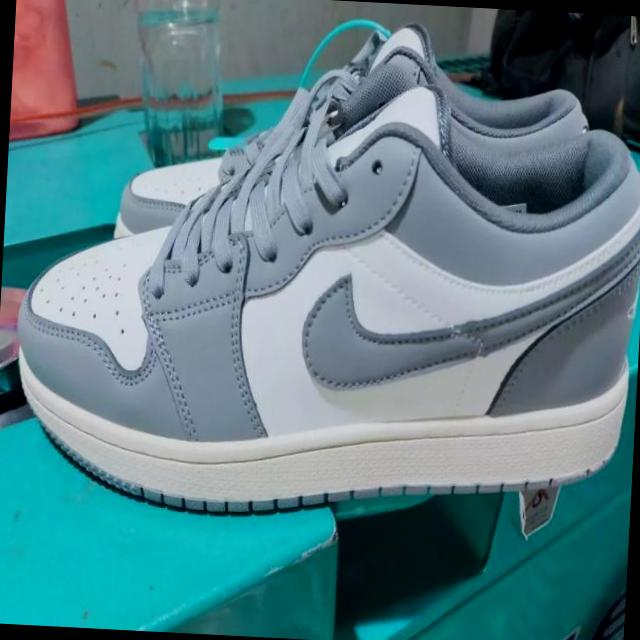nike_fake_jordan: (9, 28, 640, 536), (109, 6, 595, 308)
